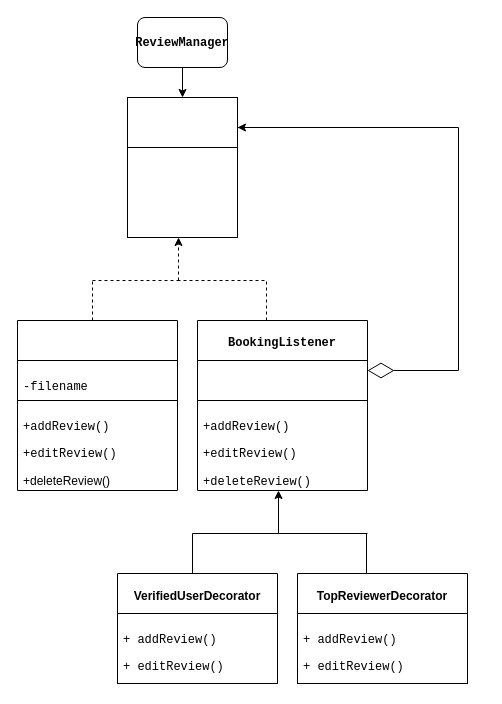
The diagram is 502 pixels wide and 704 high, and some of its shapes have lost their labels. The box of each missing label's shape, as (x1, y1, x2, y2) in pixels:
+ addReview() +editReview() + deleteReview(): (126, 146, 238, 238)
- wrappee: ReviewService: (196, 360, 368, 400)
BasicReview: (16, 320, 178, 490)
«interface» ReviewService: (126, 96, 238, 148)
